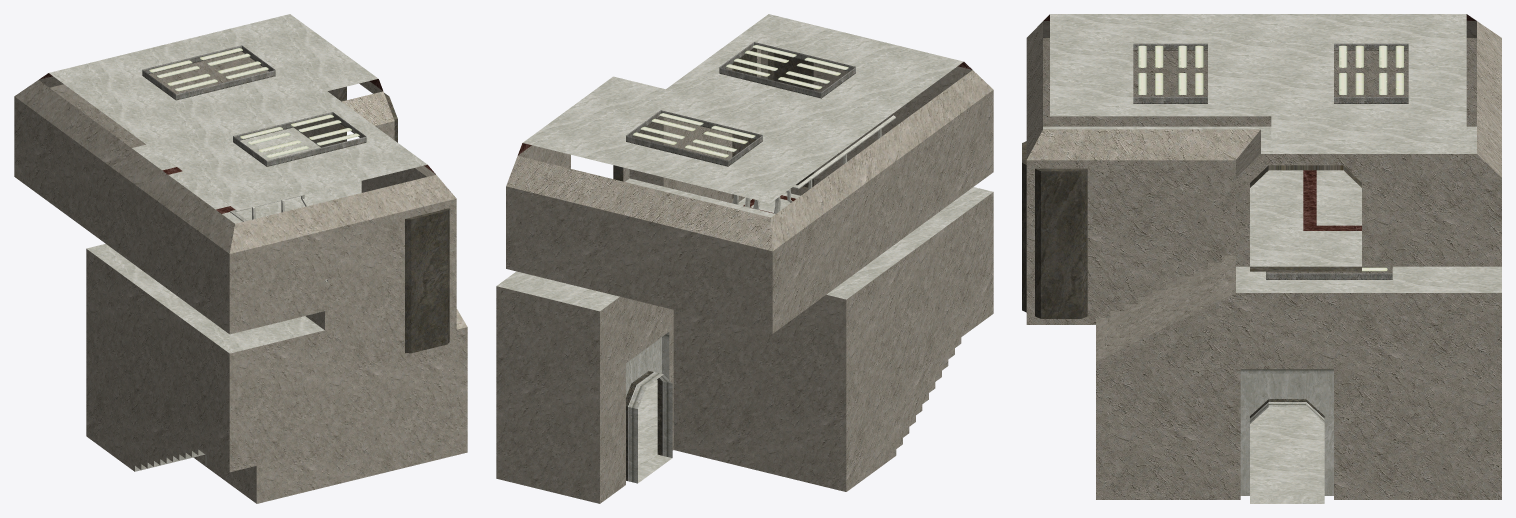
The model's file is ply_all_assoc_hall_civ_s01_r6_stairwellb_mesh_stairwellb.fbx.
The picture shows the model from 3 angles, left to right: view 1: azimuth 30°, elevation 25°; view 2: azimuth 150°, elevation 25°; view 3: azimuth 270°, elevation 25°; orthographic projection. The views are drawn at different scales.
Parts seen in each view (by area): view 1: mesh_node; view 2: mesh_node; view 3: mesh_node.
Boxes of the visible parts, x1,y1,x2,y2 form: mesh_node: (14,14,467,503); mesh_node: (496,14,993,503); mesh_node: (1022,14,1501,503).
Size of the model in its own units: 9.45 by 10.58 by 12.86.
